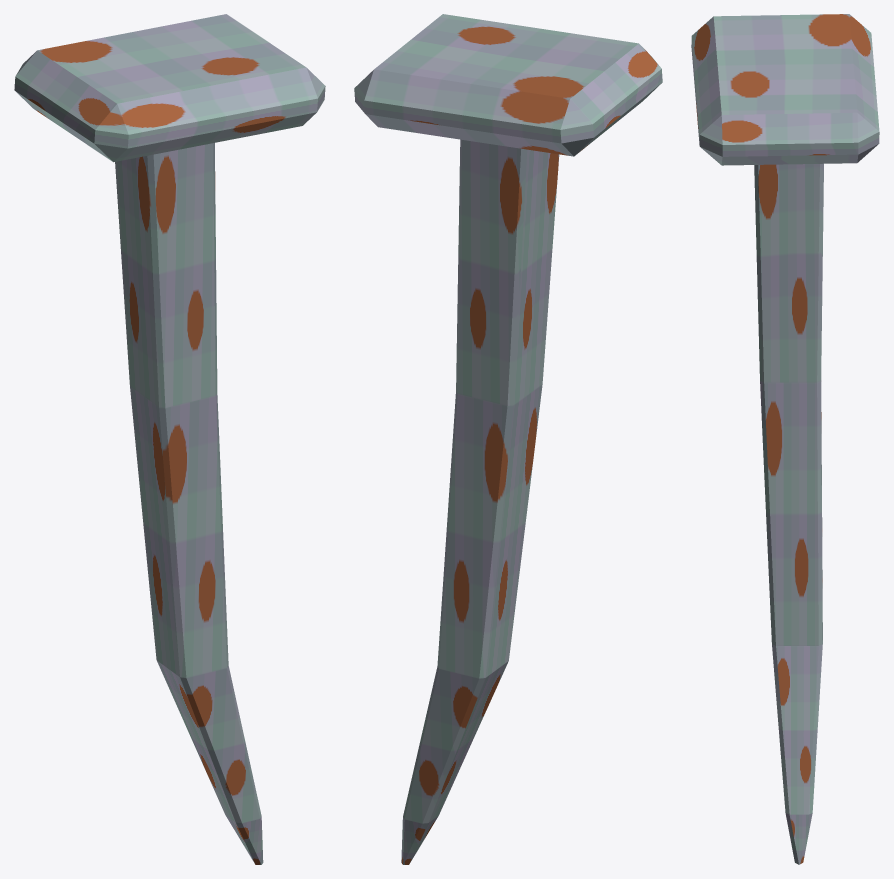
Rendered from iron_nail.obj.
3 views of the same model, side by side, from view 1: azimuth 30°, elevation 25°; view 2: azimuth 150°, elevation 25°; view 3: azimuth 270°, elevation 25° (orthographic). The views are drawn at different scales.
Parts seen in each view (by area): view 1: B_TaperedBentShank.001_iron_nail_forged_iron, A_HammeredHead.001_iron_nail_forged_iron; view 2: B_TaperedBentShank.001_iron_nail_forged_iron, A_HammeredHead.001_iron_nail_forged_iron; view 3: B_TaperedBentShank.001_iron_nail_forged_iron, A_HammeredHead.001_iron_nail_forged_iron.
Boxes of the visible parts, bbox=[...] form: B_TaperedBentShank.001_iron_nail_forged_iron: bbox=[115, 143, 263, 864]; A_HammeredHead.001_iron_nail_forged_iron: bbox=[14, 14, 325, 162]; B_TaperedBentShank.001_iron_nail_forged_iron: bbox=[401, 139, 559, 864]; A_HammeredHead.001_iron_nail_forged_iron: bbox=[354, 14, 662, 156]; B_TaperedBentShank.001_iron_nail_forged_iron: bbox=[754, 163, 823, 864]; A_HammeredHead.001_iron_nail_forged_iron: bbox=[691, 14, 879, 165].
Size of the model in its own units: 0.7464 by 2.48 by 0.5536.
